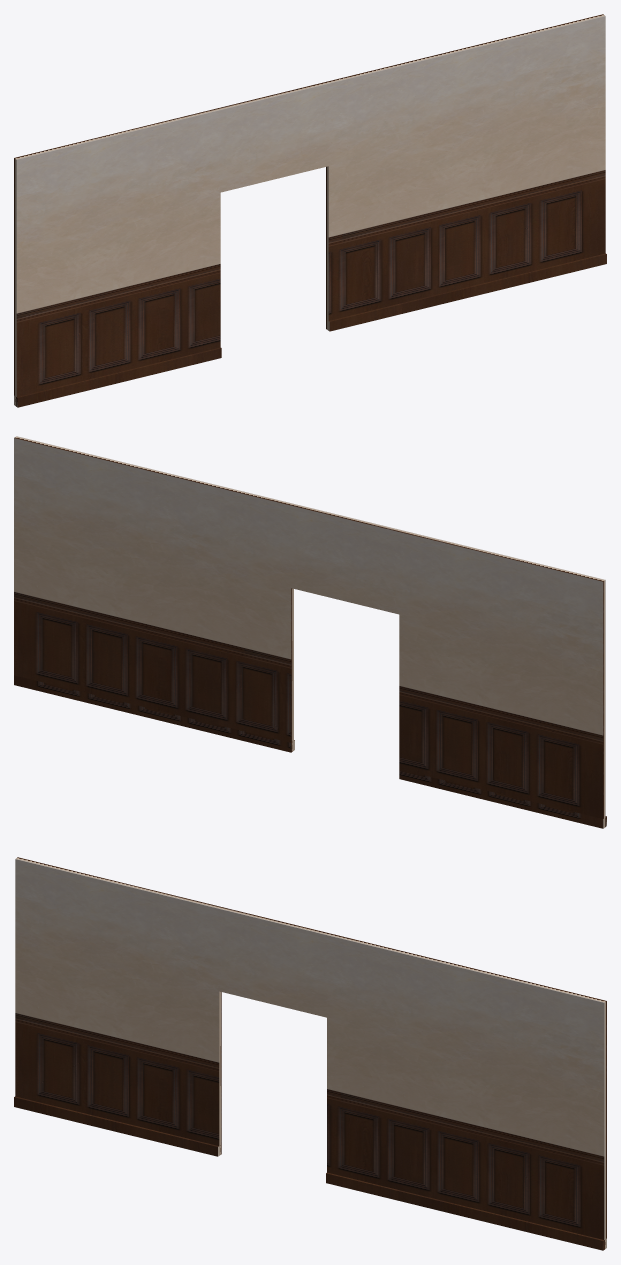
File: Wall 3.FBX
3 views of the same model, one above another, from view 1: azimuth 30°, elevation 25°; view 2: azimuth 150°, elevation 25°; view 3: azimuth 330°, elevation 25° (orthographic).
Visible parts, largest first — view 1: wall 3; view 2: wall 3; view 3: wall 3.
Boxes of the visible parts, x1,y1,x2,y2 form: wall 3: [14, 14, 606, 407]; wall 3: [14, 436, 606, 828]; wall 3: [14, 857, 606, 1250].
Bounding box in the file's own units: 11629 × 4659 × 129.
Materials: 1 (1 with a texture image).
